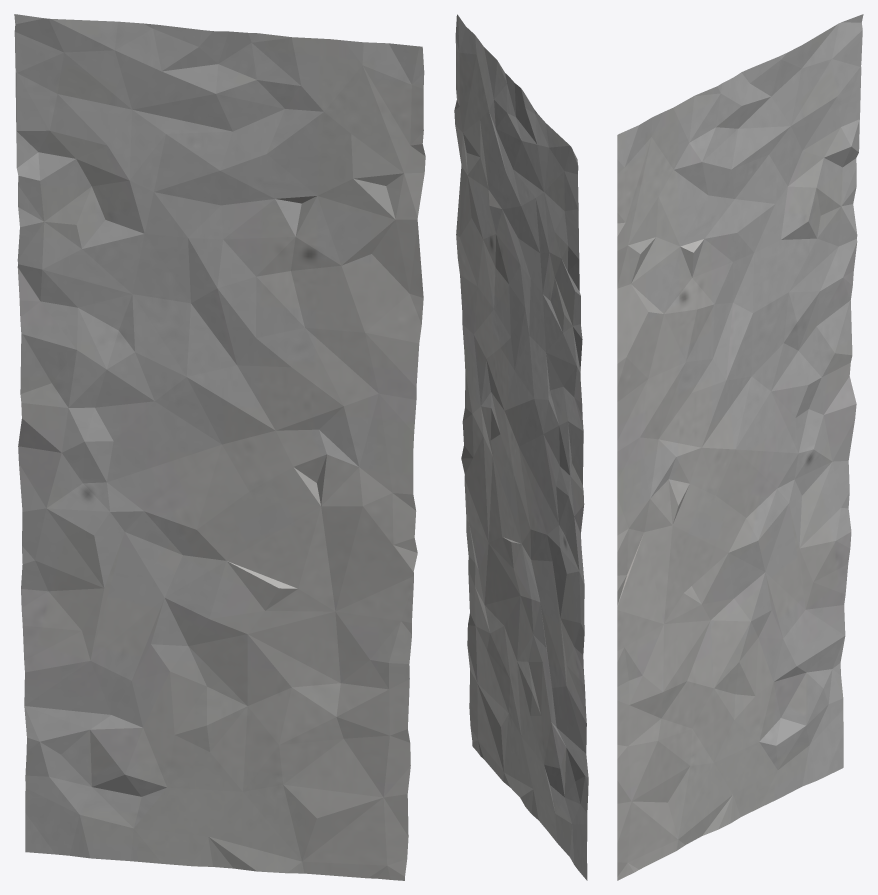
3 views of the same model, side by side, from view 1: azimuth 30°, elevation 25°; view 2: azimuth 150°, elevation 25°; view 3: azimuth 270°, elevation 25° (orthographic). The views are drawn at different scales.
Size of the model in its own units: 0.2912 by 0.8374 by 0.2478.
1 material, 1 textured.
